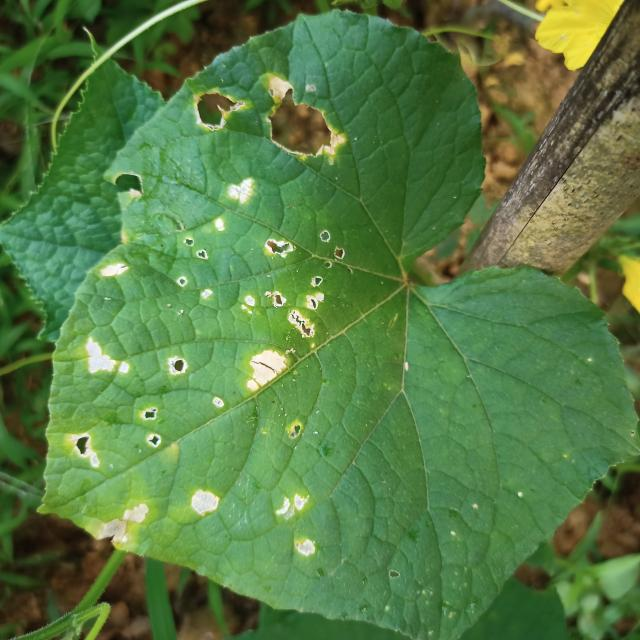disease_cucumber: (242, 229, 350, 342), (266, 74, 346, 171), (274, 493, 322, 560), (193, 87, 245, 138), (78, 334, 133, 382), (244, 348, 291, 397), (101, 504, 149, 545), (138, 403, 166, 449), (72, 432, 104, 467), (190, 486, 221, 518), (227, 177, 256, 210), (163, 353, 190, 377), (98, 262, 131, 281)
